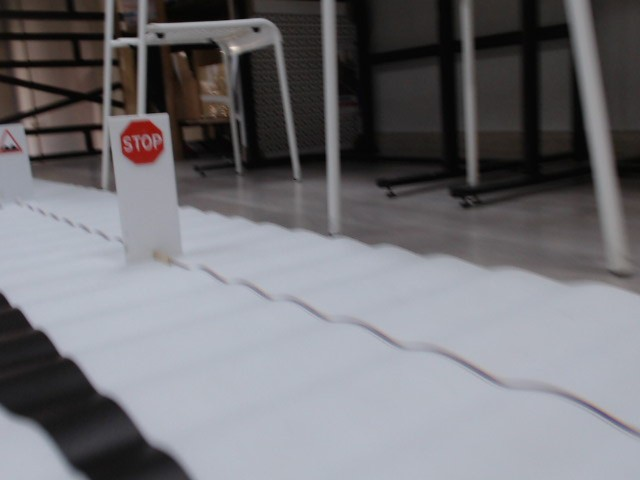Stop: (119, 118, 165, 161)
